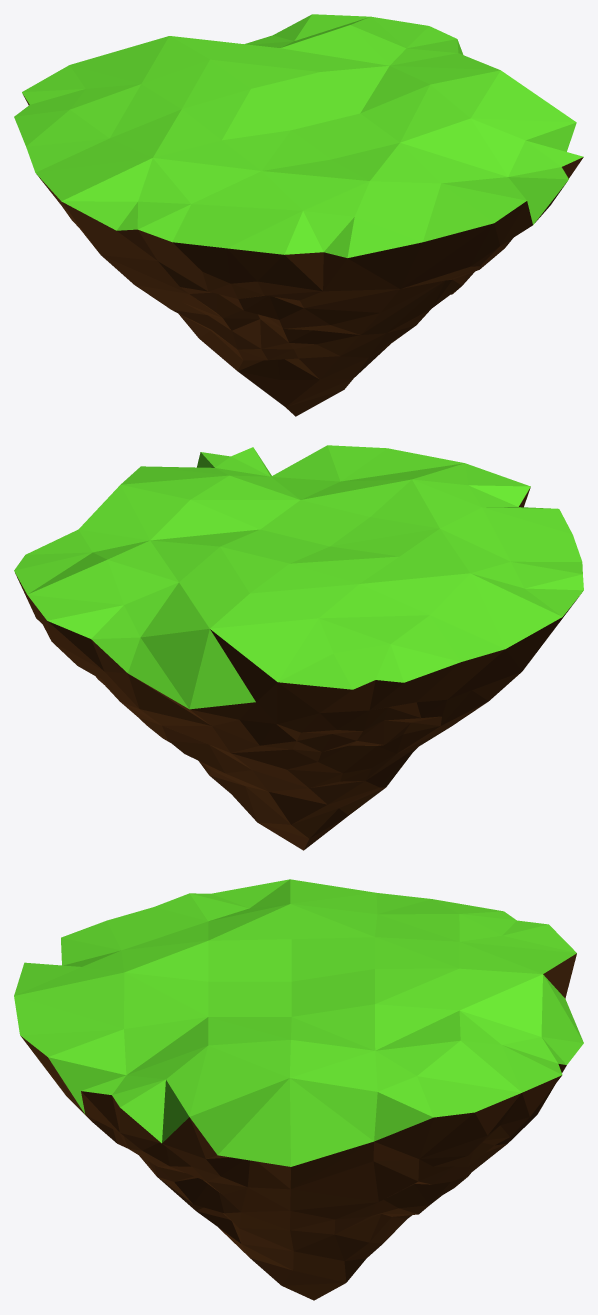
File: floating island.fbx
3 renders of one model, top to bottom at view 1: azimuth 30°, elevation 25°; view 2: azimuth 150°, elevation 25°; view 3: azimuth 270°, elevation 25°, orthographic. The views are drawn at different scales.
Visible parts, largest first — view 1: Cone; view 2: Cone; view 3: Cone.
Boxes of the visible parts, <box> form: Cone: <box>14,14,583,416</box>; Cone: <box>14,445,583,850</box>; Cone: <box>14,879,583,1300</box>.
Bounding box in the file's own units: 1111 × 696 × 1111.
